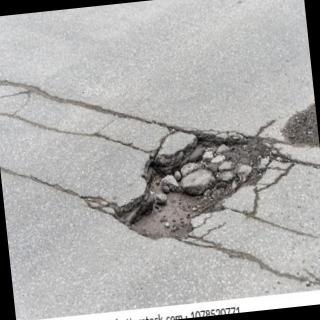pothole: (80, 128, 280, 242), (281, 104, 320, 150)
